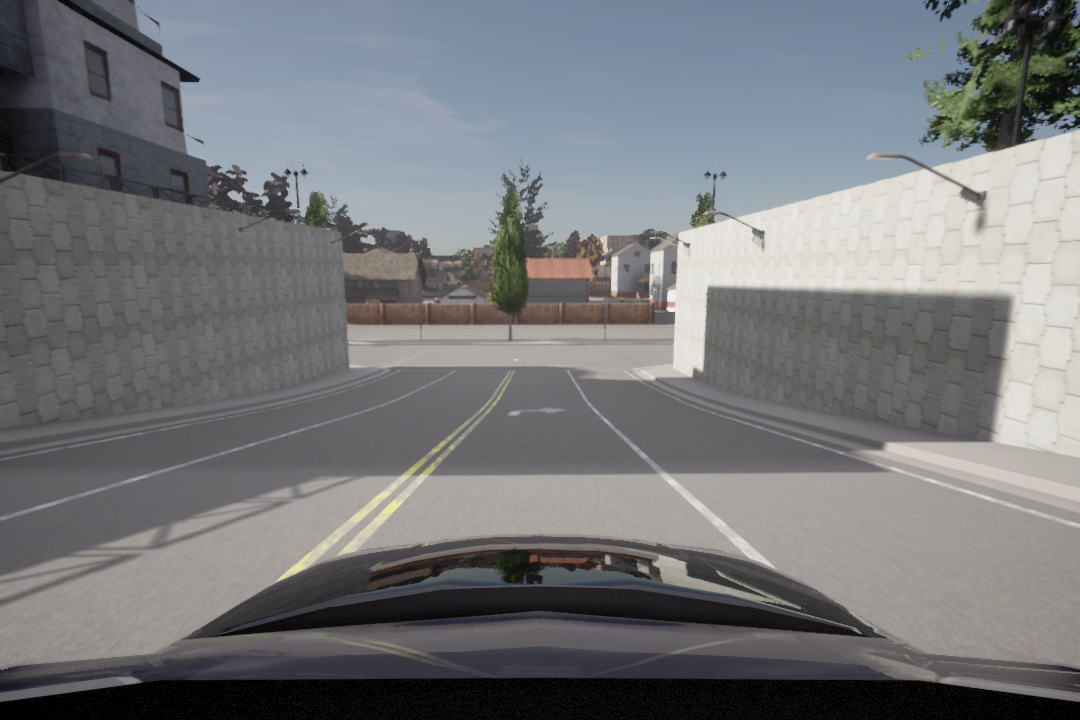RoadSign_right: (504, 402, 570, 420)
